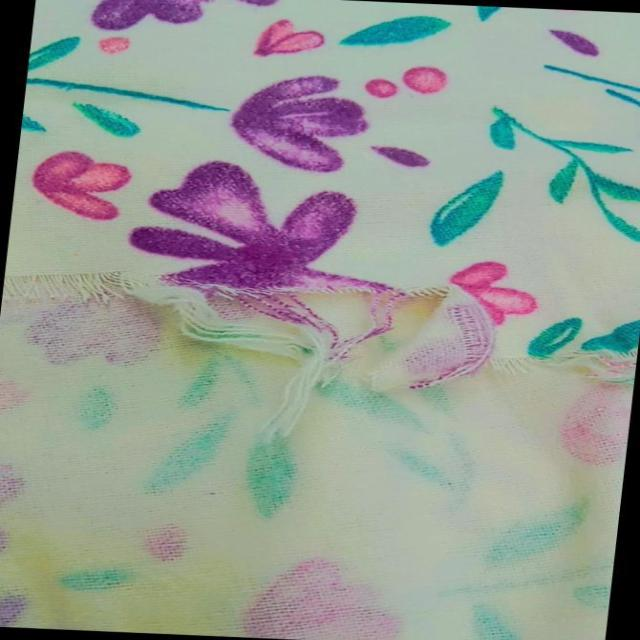cut: (5, 241, 556, 407)
